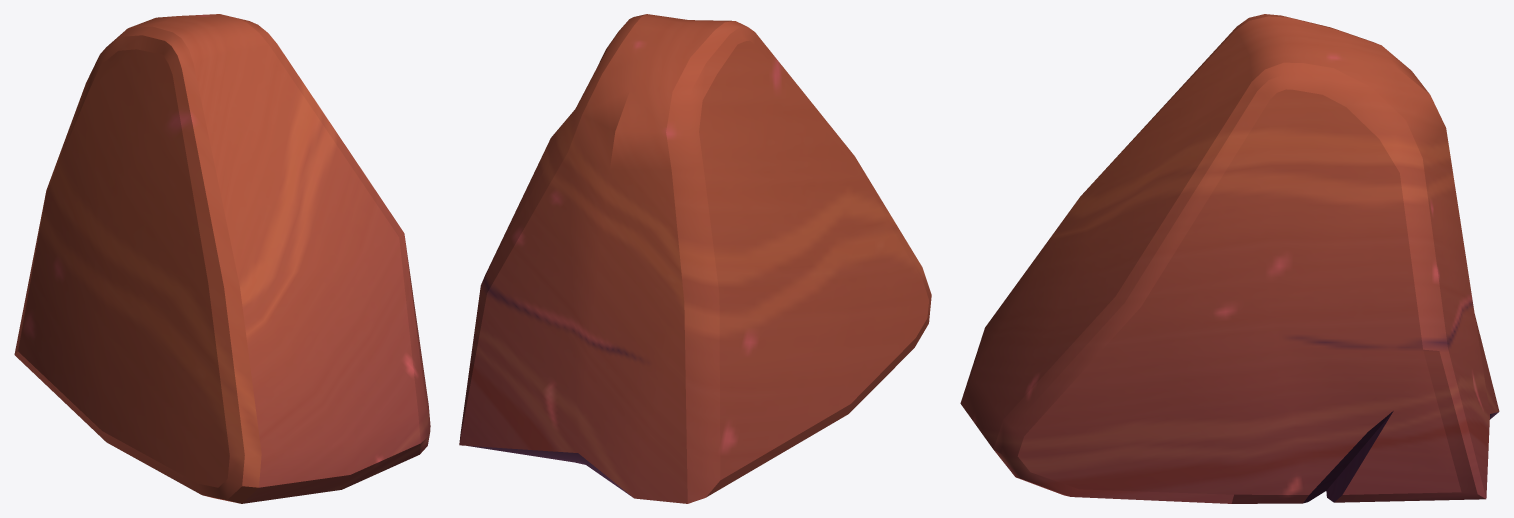
File: SM_Stone_02.fbx
3 views of the same model, side by side, from view 1: azimuth 30°, elevation 25°; view 2: azimuth 150°, elevation 25°; view 3: azimuth 270°, elevation 25° (orthographic). The views are drawn at different scales.
Parts seen in each view (by area): view 1: SM_Stone_02; view 2: SM_Stone_02; view 3: SM_Stone_02.
Boxes of the visible parts, box(x1,y1,x2,y2) form: SM_Stone_02: box(14, 14, 430, 503); SM_Stone_02: box(459, 14, 931, 503); SM_Stone_02: box(960, 14, 1499, 503).
Bounding box in the file's own units: 4.39 × 5.85 × 7.04.
